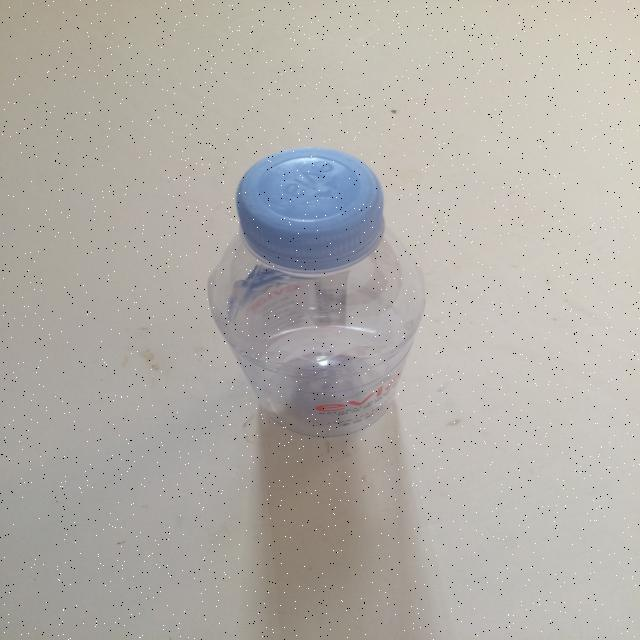plastic: (206, 146, 426, 438)
